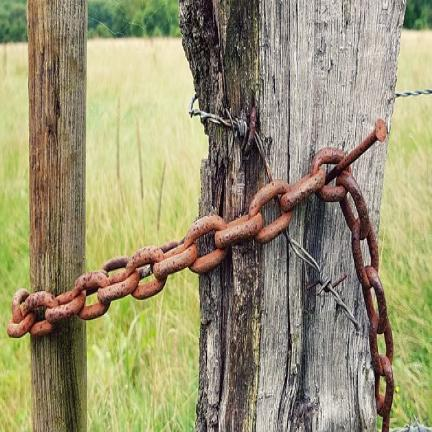karat: (183, 121, 396, 431), (5, 246, 197, 335)
